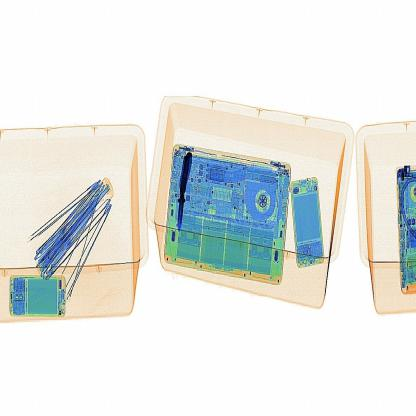gun: (168, 134, 199, 245)
